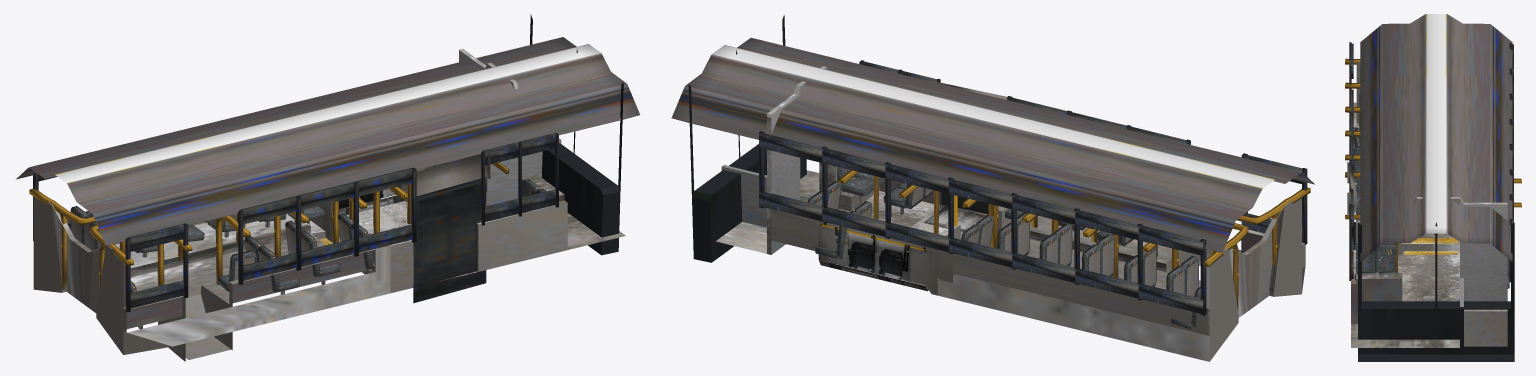
Rendered from yk_nyssebusi_sisalta.fbx.
3 renders of one model, left to right at view 1: azimuth 30°, elevation 25°; view 2: azimuth 150°, elevation 25°; view 3: azimuth 270°, elevation 25°, orthographic. The views are drawn at different scales.
Visible parts, largest first — view 1: Plane.010, Plane, Plane.009, Plane.002, Plane.011, Cube.002, Plane.008, Plane.006, Plane.001, Cube.004, Cube.005, Cube.001 (+4 smaller); view 2: Plane.010, Plane, Plane.004, Cube.005, Plane.011, Plane.003, Cube.001, Cube.002, Plane.002, Cube.012, Cube.009, Cube.011 (+5 smaller); view 3: Plane.010, Plane, Plane.011, Cube.011, Cube.002, Plane.009, Plane.004, Plane.002, Plane.008, Plane.003, Plane.007, Cube.004 (+2 smaller).
Part boxes in pixels (bbox=[...]): Plane.010: bbox=[16, 37, 639, 245]; Plane: bbox=[33, 49, 625, 361]; Plane.009: bbox=[411, 153, 490, 303]; Plane.002: bbox=[239, 167, 413, 280]; Plane.011: bbox=[530, 14, 623, 255]; Cube.002: bbox=[90, 197, 366, 288]; Plane.008: bbox=[482, 132, 556, 221]; Plane.006: bbox=[127, 223, 186, 308]; Plane.001: bbox=[238, 168, 416, 284]; Cube.004: bbox=[244, 220, 340, 294]; Cube.005: bbox=[70, 206, 286, 257]; Cube.001: bbox=[29, 188, 295, 289]; Plane.010: bbox=[671, 37, 1314, 252]; Plane: bbox=[715, 66, 1305, 361]; Plane.004: bbox=[759, 133, 1203, 313]; Cube.005: bbox=[996, 213, 1198, 296]; Plane.011: bbox=[688, 15, 806, 262]; Plane.003: bbox=[759, 131, 1206, 315]; Cube.001: bbox=[962, 198, 1248, 310]; Cube.002: bbox=[1031, 187, 1310, 266]; Plane.002: bbox=[1007, 97, 1187, 143]; Cube.012: bbox=[837, 167, 885, 205]; Cube.009: bbox=[838, 170, 938, 233]; Cube.011: bbox=[883, 182, 933, 215]; Plane.010: bbox=[1360, 14, 1512, 261]; Plane: bbox=[1351, 62, 1507, 347]; Plane.011: bbox=[1358, 222, 1514, 361]; Cube.011: bbox=[1354, 244, 1395, 272]; Cube.002: bbox=[1345, 58, 1360, 160]; Plane.009: bbox=[1347, 161, 1357, 250]; Plane.004: bbox=[1512, 44, 1513, 223]; Plane.002: bbox=[1350, 89, 1353, 171]; Plane.008: bbox=[1350, 189, 1353, 278]; Plane.003: bbox=[1509, 43, 1512, 282]; Plane.007: bbox=[1349, 188, 1351, 280]; Cube.004: bbox=[1353, 147, 1360, 185].
Size of the model in its own units: 664 by 200 by 226.
